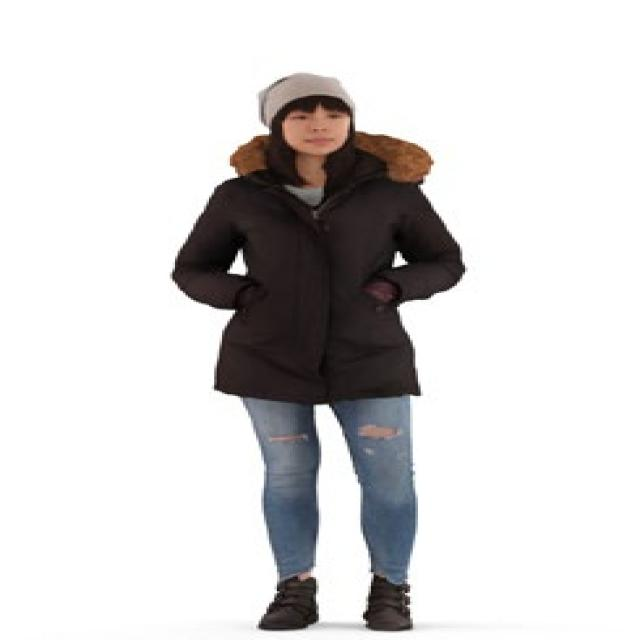standing: (166, 68, 490, 634)
